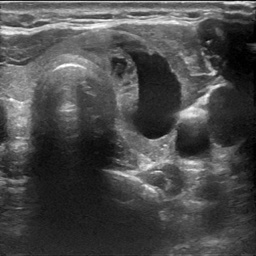mass: (108, 41, 183, 142)
